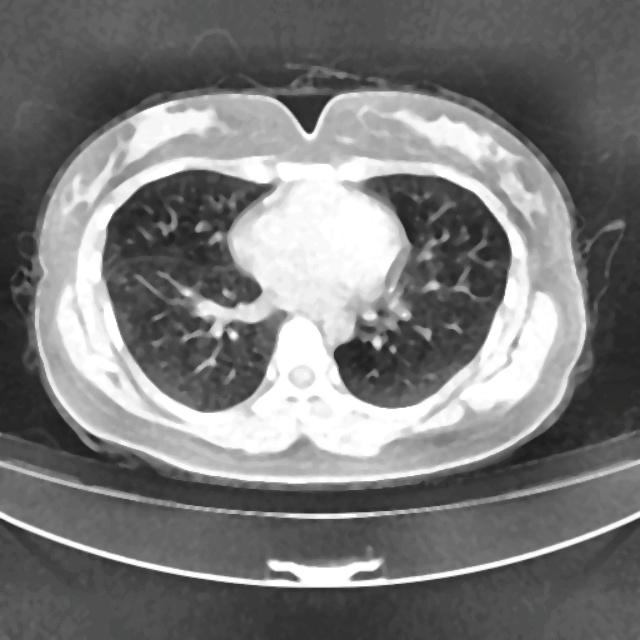covid: (25, 84, 592, 491)
